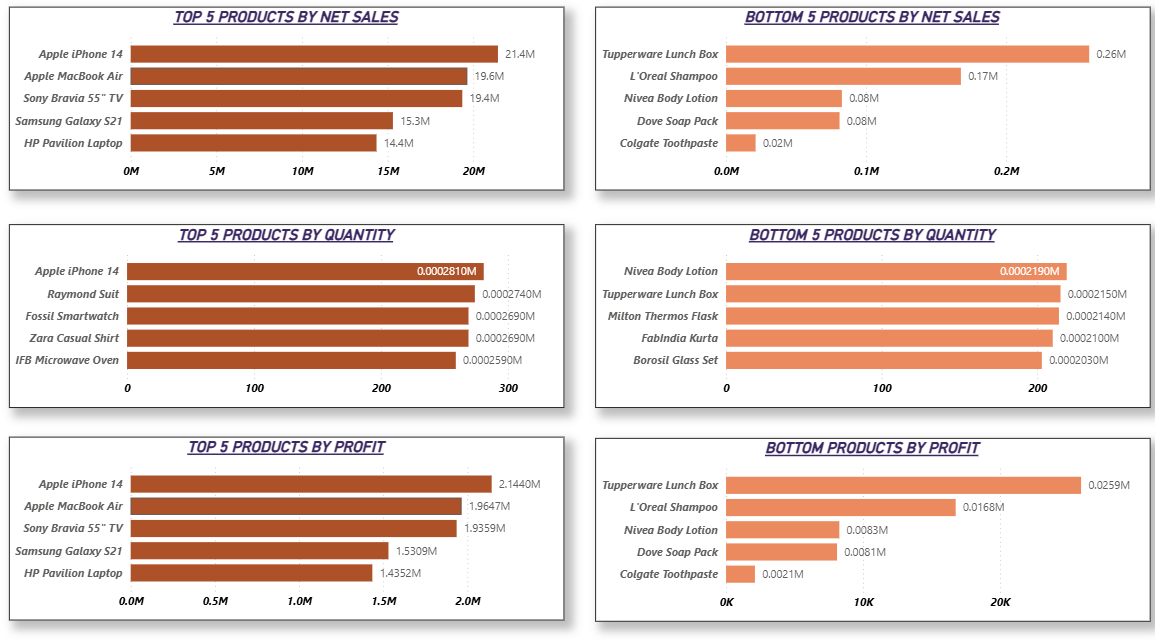

The dashboard page shown, as its layout file describes it:
{"tool":"powerbi","page":{"name":"Top & Bottom Product Analysis","canvas":[1280,720],"ordinal":1},"visuals":[{"type":"barChart","title":"TOP 5 PRODUCTS BY NET SALES","fields":{"Category":["Dim Product.Product Name"],"Y":["Sum(Fact Table.net sales (after dis))"]},"box":[11,15.1,609.3,201.7],"z":0},{"type":"barChart","title":"BOTTOM 5 PRODUCTS BY NET SALES","fields":{"Category":["Dim Product.Product Name"],"Y":["Sum(Fact Table.net sales (after dis))"]},"box":[654.5,15.1,609.3,201.7],"z":1000},{"type":"barChart","title":"TOP 5 PRODUCTS BY QUANTITY","fields":{"Category":["Dim Product.Product Name"],"Y":["Sum(Fact Table.Units Sold)"]},"box":[11,253.9,609.3,201.7],"z":2000},{"type":"barChart","title":"BOTTOM 5 PRODUCTS BY QUANTITY","fields":{"Category":["Dim Product.Product Name"],"Y":["Sum(Fact Table.Units Sold)"]},"box":[654.5,253.9,609.3,201.7],"z":3000},{"type":"barChart","title":"TOP 5 PRODUCTS BY PROFIT","fields":{"Category":["Dim Product.Product Name"],"Y":["Sum(Fact Table.profit)"]},"box":[11,487.1,609.3,201.7],"z":4000},{"type":"barChart","title":"BOTTOM PRODUCTS BY PROFIT","fields":{"Category":["Dim Product.Product Name"],"Y":["Sum(Fact Table.profit)"]},"box":[654.5,488.5,609.3,201.7],"z":5000}]}

Visuals, with their boxes in screenshot pixels (x1, y1, x2, y2), scaled from the page's 1280x720 canvas onto the 1155x641 screenshot:
"TOP 5 PRODUCTS BY NET SALES" barChart: (10,13,560,193)
"BOTTOM 5 PRODUCTS BY NET SALES" barChart: (591,13,1140,193)
"TOP 5 PRODUCTS BY QUANTITY" barChart: (10,226,560,406)
"BOTTOM 5 PRODUCTS BY QUANTITY" barChart: (591,226,1140,406)
"TOP 5 PRODUCTS BY PROFIT" barChart: (10,434,560,613)
"BOTTOM PRODUCTS BY PROFIT" barChart: (591,435,1140,614)
